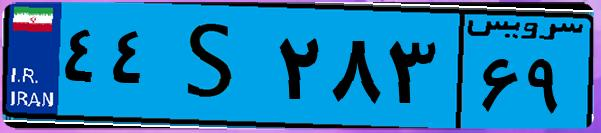2: (270, 28, 330, 110)
3: (385, 28, 445, 110)
4: (57, 26, 110, 100), (110, 28, 158, 98)
6: (475, 38, 525, 113)
8: (330, 28, 385, 110)
9: (525, 38, 570, 115)
S: (158, 12, 270, 120)
